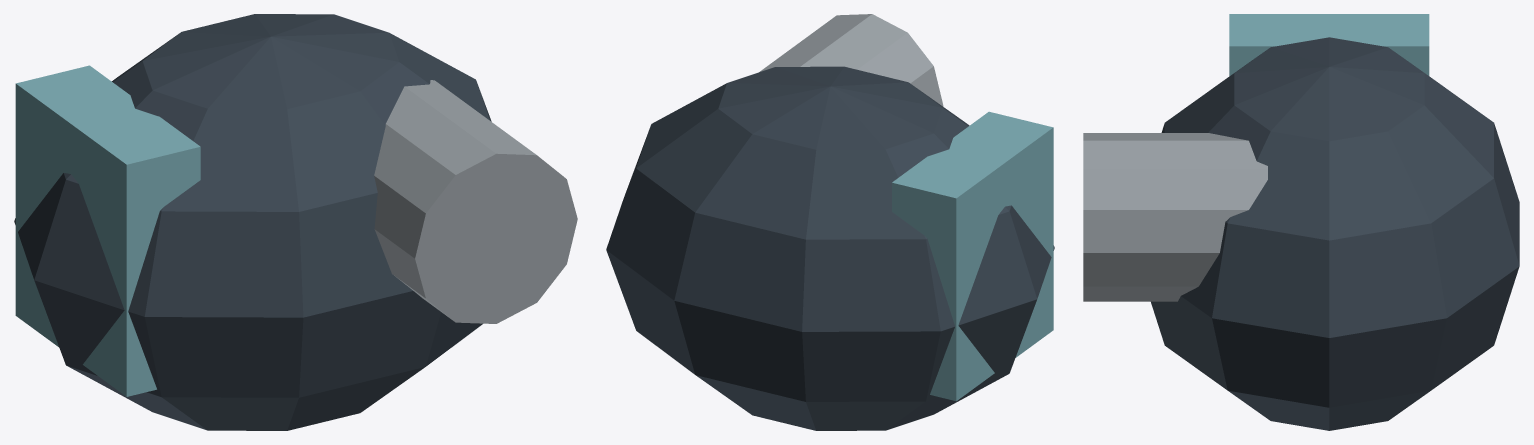
File: tecnologia_earpiece.glb
The picture shows the model from 3 angles, left to right: view 1: azimuth 30°, elevation 25°; view 2: azimuth 150°, elevation 25°; view 3: azimuth 270°, elevation 25°; orthographic projection. The views are drawn at different scales.
Size of the model in its own units: 0.32 by 0.24 by 0.2836.
